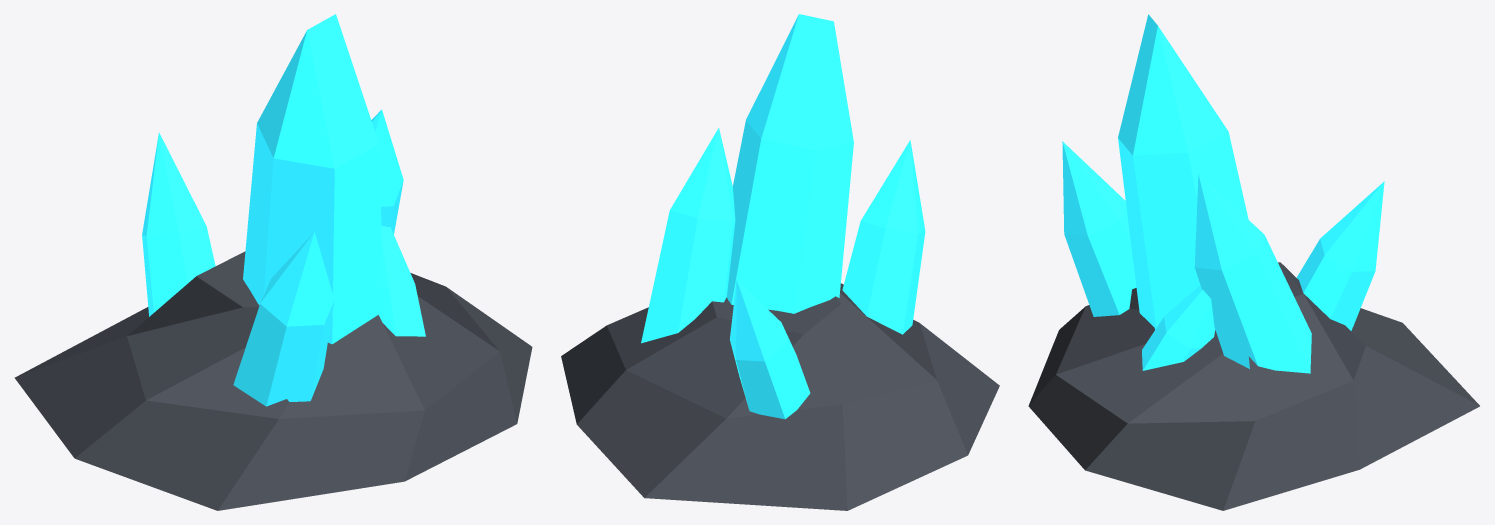
Rendered from PROP_01_SmallCrystalCluster.glb.
3 views of the same model, side by side, from view 1: azimuth 30°, elevation 25°; view 2: azimuth 150°, elevation 25°; view 3: azimuth 270°, elevation 25° (orthographic). The views are drawn at different scales.
Parts seen in each view (by area): view 1: PROP_01_SmallCrystalCluster; view 2: PROP_01_SmallCrystalCluster; view 3: PROP_01_SmallCrystalCluster.
Part boxes in pixels (bbox=[...]): PROP_01_SmallCrystalCluster: bbox=[14, 14, 532, 510]; PROP_01_SmallCrystalCluster: bbox=[561, 14, 999, 510]; PROP_01_SmallCrystalCluster: bbox=[1028, 14, 1479, 510].
Size of the model in its own units: 1.17 by 1.01 by 1.09.
